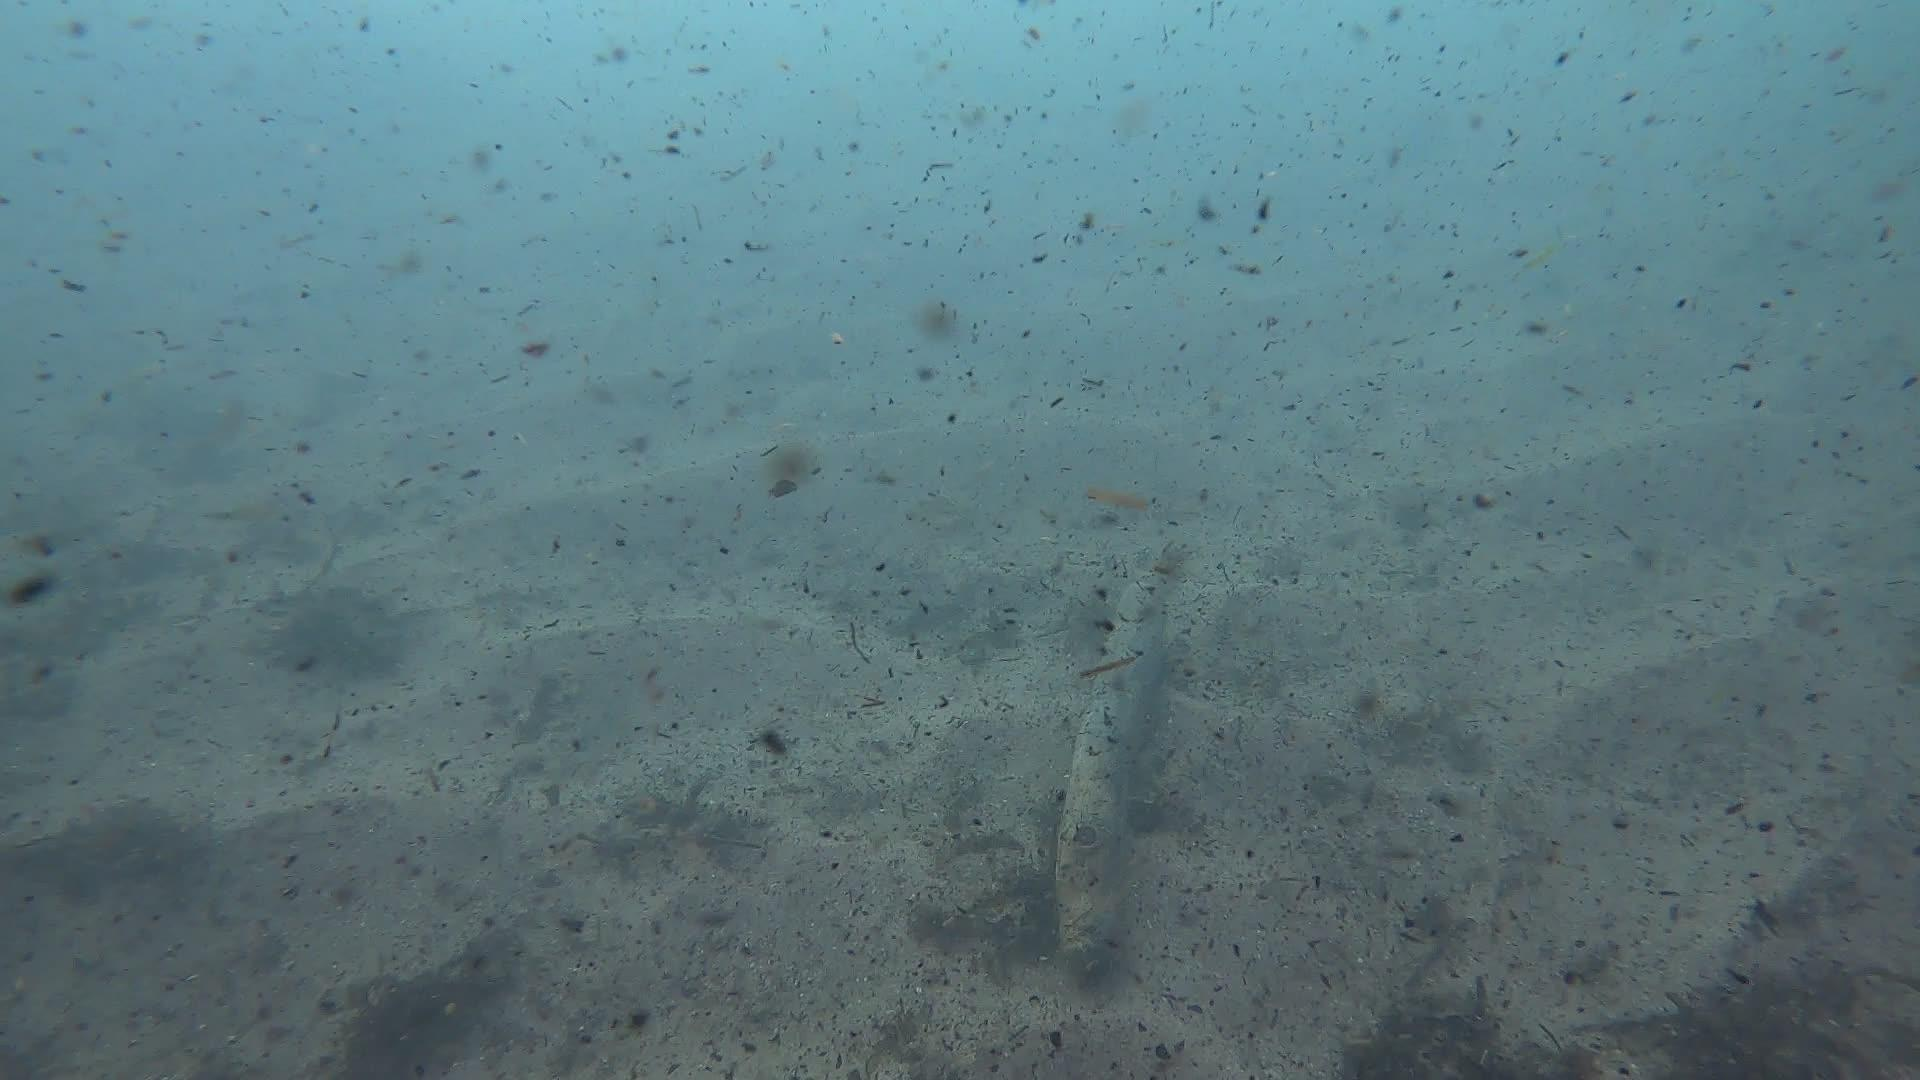wood: (1052, 582, 1172, 988)
